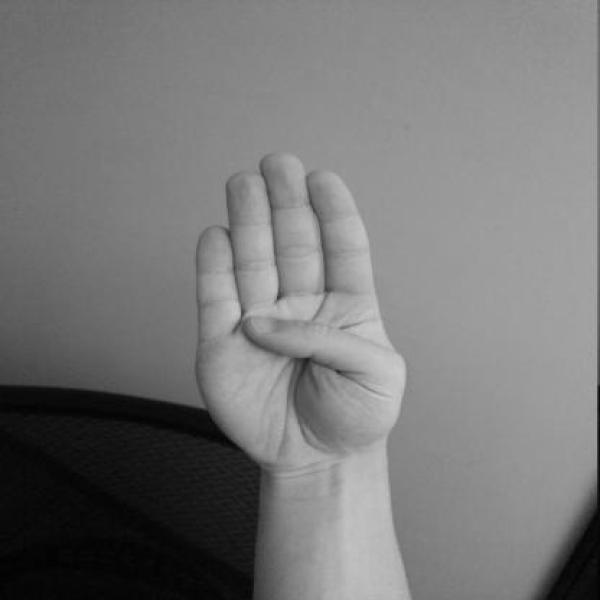B: (185, 146, 416, 477)
